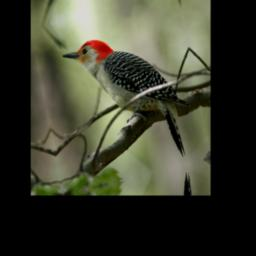Woodpecker: (61, 19, 198, 181)
